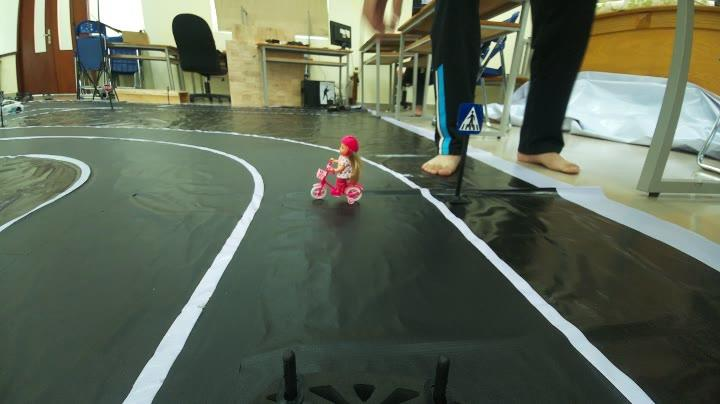crosswalk: (448, 99, 492, 142)
pedestrian: (298, 137, 371, 205)
